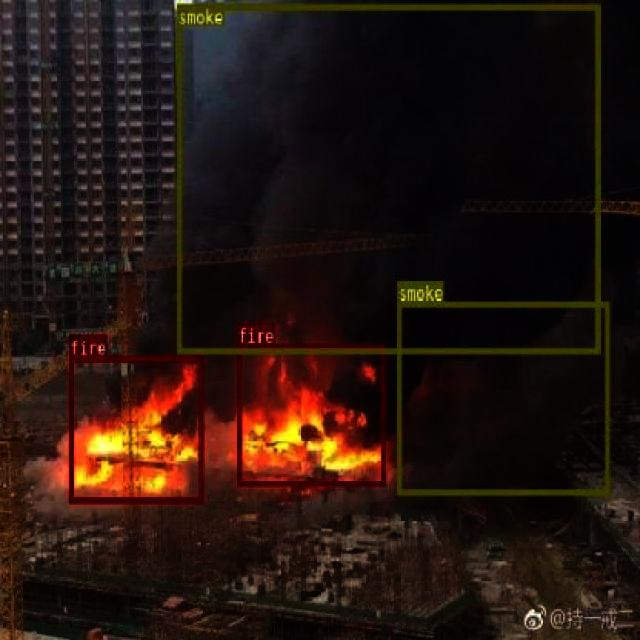fire: (237, 343, 385, 485), (68, 356, 202, 502)
smoke: (176, 3, 598, 354), (396, 300, 610, 494)
